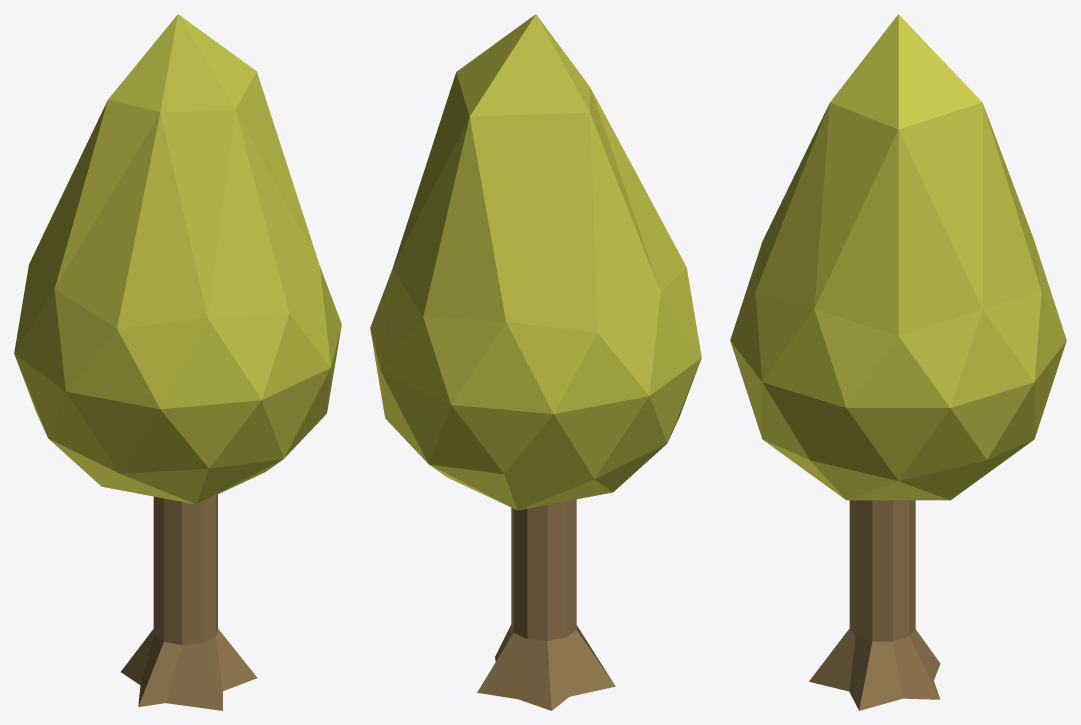
Rendered from long-circular-tree-2.fbx.
3 renders of one model, left to right at view 1: azimuth 30°, elevation 25°; view 2: azimuth 150°, elevation 25°; view 3: azimuth 270°, elevation 25°, orthographic.
Visible parts, largest first — view 1: Icosphere.003; view 2: Icosphere.003; view 3: Icosphere.003.
Part boxes in pixels (left/top/right/bottom): Icosphere.003: left=14, top=14, right=341, bottom=710; Icosphere.003: left=370, top=14, right=701, bottom=710; Icosphere.003: left=730, top=14, right=1066, bottom=710.
Bounding box in the file's own units: 347 × 799 × 365.
